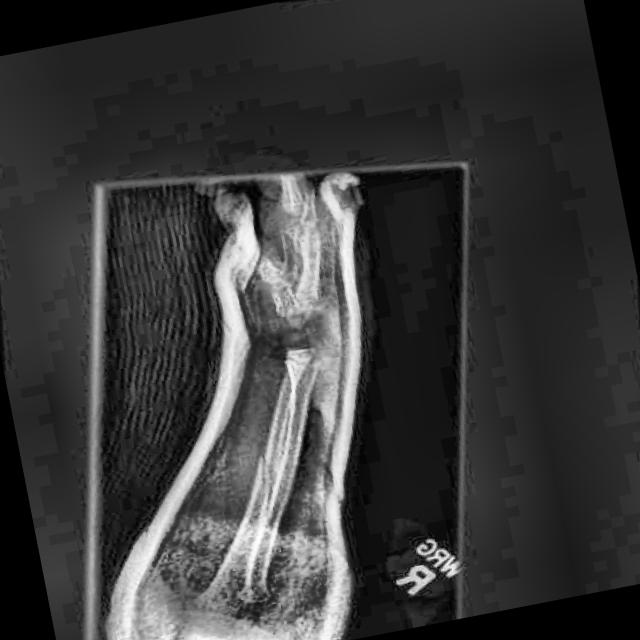forearm fracture: (215, 438, 309, 516)
